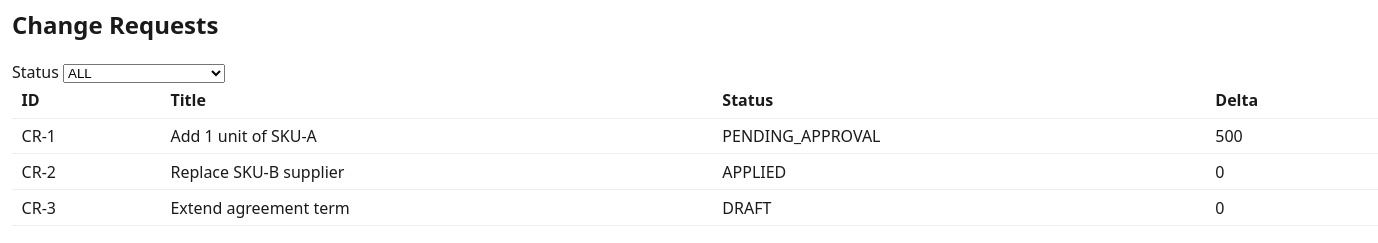
Test: CrListComponent › shows a filtered-empty state when no rows match the selected status
Select "REJECTED" in the dropdown with class "cr-list__filter" at (144, 73), box x1=63 y1=64 x2=225 y2=83
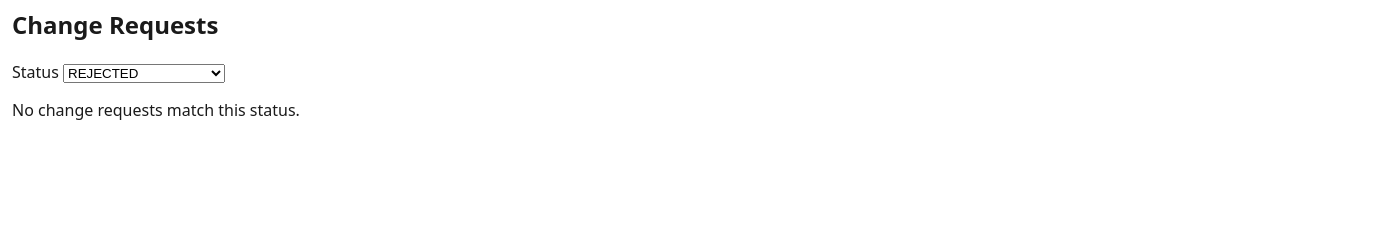
Expected: the text "No change requests match this status." is shown, x1=12 y1=99 x2=300 y2=121
Expected: the table with class "cr-list__table" is gone
